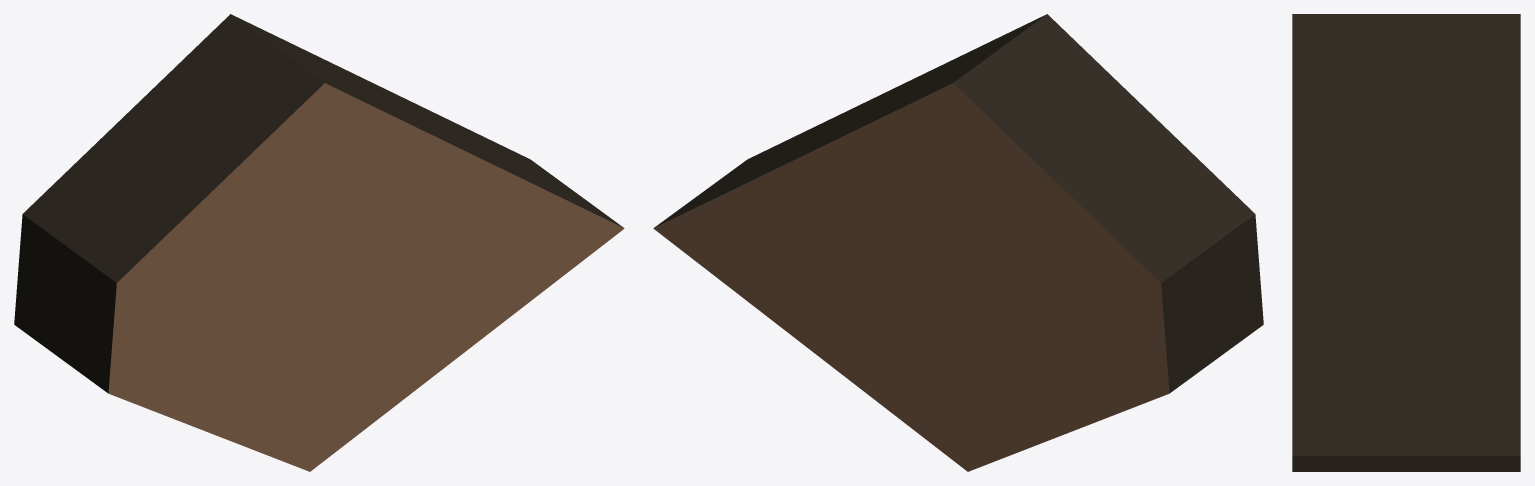
File: SM_DoorShard_03_35.fbx
3 renders of one model, left to right at view 1: azimuth 30°, elevation 25°; view 2: azimuth 150°, elevation 25°; view 3: azimuth 270°, elevation 25°, orthographic. The views are drawn at different scales.
Visible parts, largest first — view 1: SM_DoorShard_03_35; view 2: SM_DoorShard_03_35; view 3: SM_DoorShard_03_35.
Part boxes in pixels (x1,y1,x2,y2): SM_DoorShard_03_35: (14, 14, 624, 471); SM_DoorShard_03_35: (653, 14, 1263, 471); SM_DoorShard_03_35: (1292, 14, 1520, 471).
Size of the model in its own units: 50.58 by 16 by 36.07.
